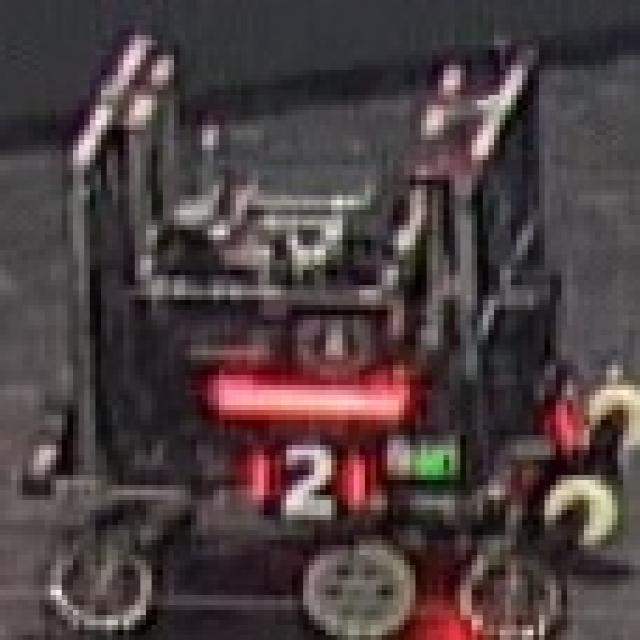R2: (241, 435, 365, 520)
